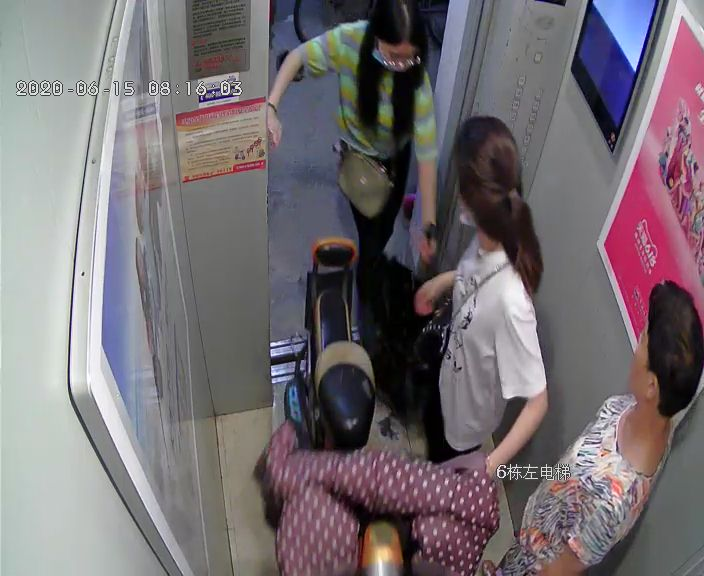Electric-bicycle: (279, 238, 431, 574)
